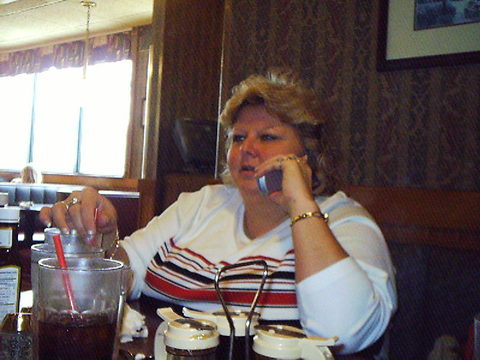person: (40, 66, 399, 354)
